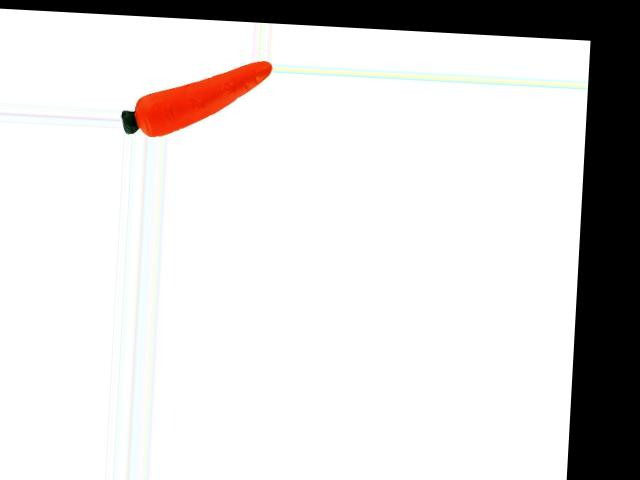carrot: (133, 52, 272, 141)
